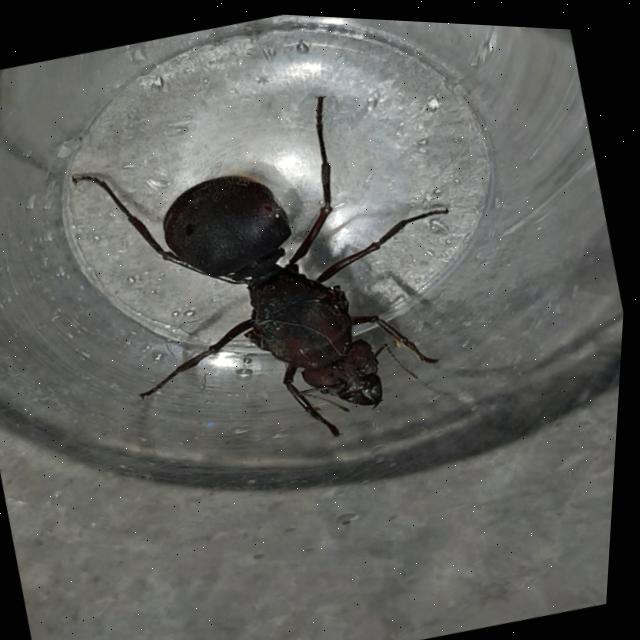Alive-Female-Dealate: (48, 54, 508, 493)
